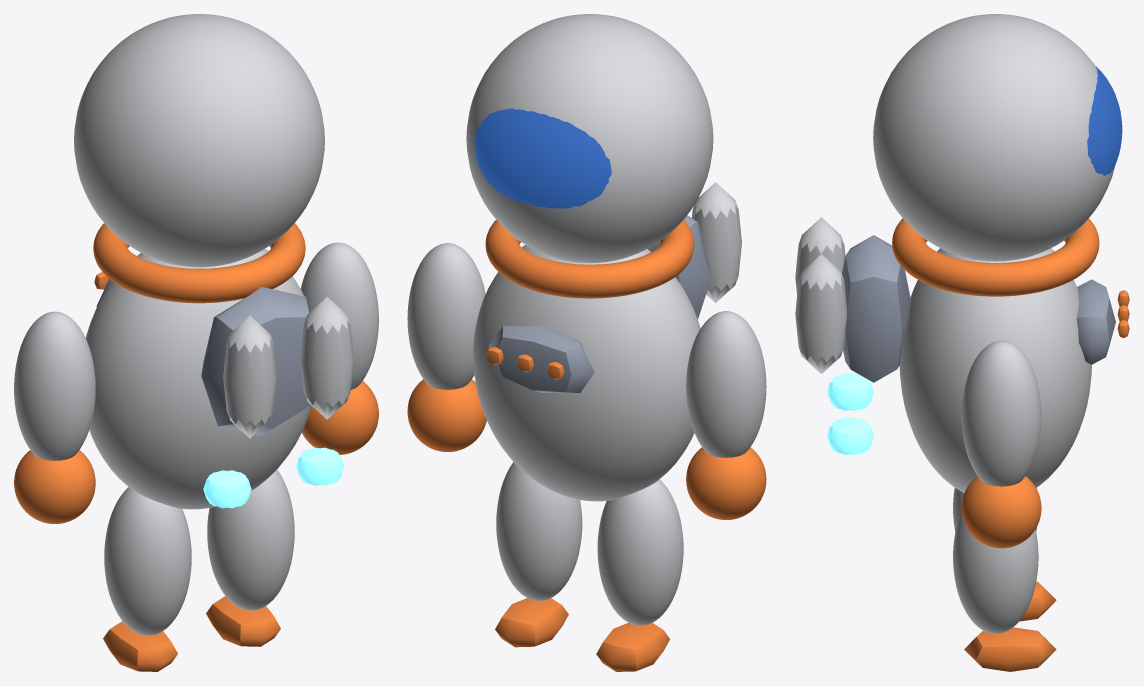
Rendered from astronaut.glb.
3 renders of one model, left to right at view 1: azimuth 30°, elevation 25°; view 2: azimuth 150°, elevation 25°; view 3: azimuth 270°, elevation 25°, orthographic. The views are drawn at different scales.
Parts seen in each view (by area): view 1: Body, Leg_L, Leg_R; view 2: Body, Leg_L, Leg_R; view 3: Body, Leg_R, Leg_L.
Part boxes in pixels (left/top/right/bottom): Body: left=14, top=14, right=378, bottom=523; Leg_L: left=103, top=487, right=191, bottom=671; Leg_R: left=206, top=469, right=294, bottom=646; Body: left=407, top=14, right=766, bottom=519; Leg_L: left=596, top=479, right=683, bottom=671; Leg_R: left=495, top=462, right=582, bottom=647; Body: left=795, top=14, right=1129, bottom=548; Leg_R: left=953, top=511, right=1056, bottom=671; Leg_L: left=953, top=487, right=1056, bottom=621.
Bounding box in the file's own units: 1.38 × 2.35 × 1.15.
